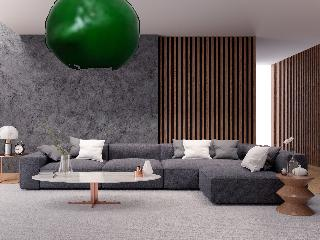lime: (44, 0, 140, 71)
